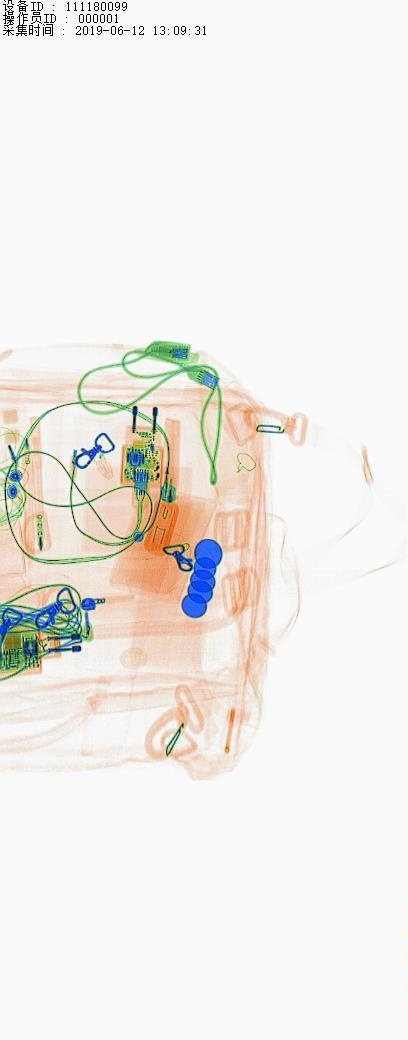NonmetallicFire: (150, 414, 195, 517)
